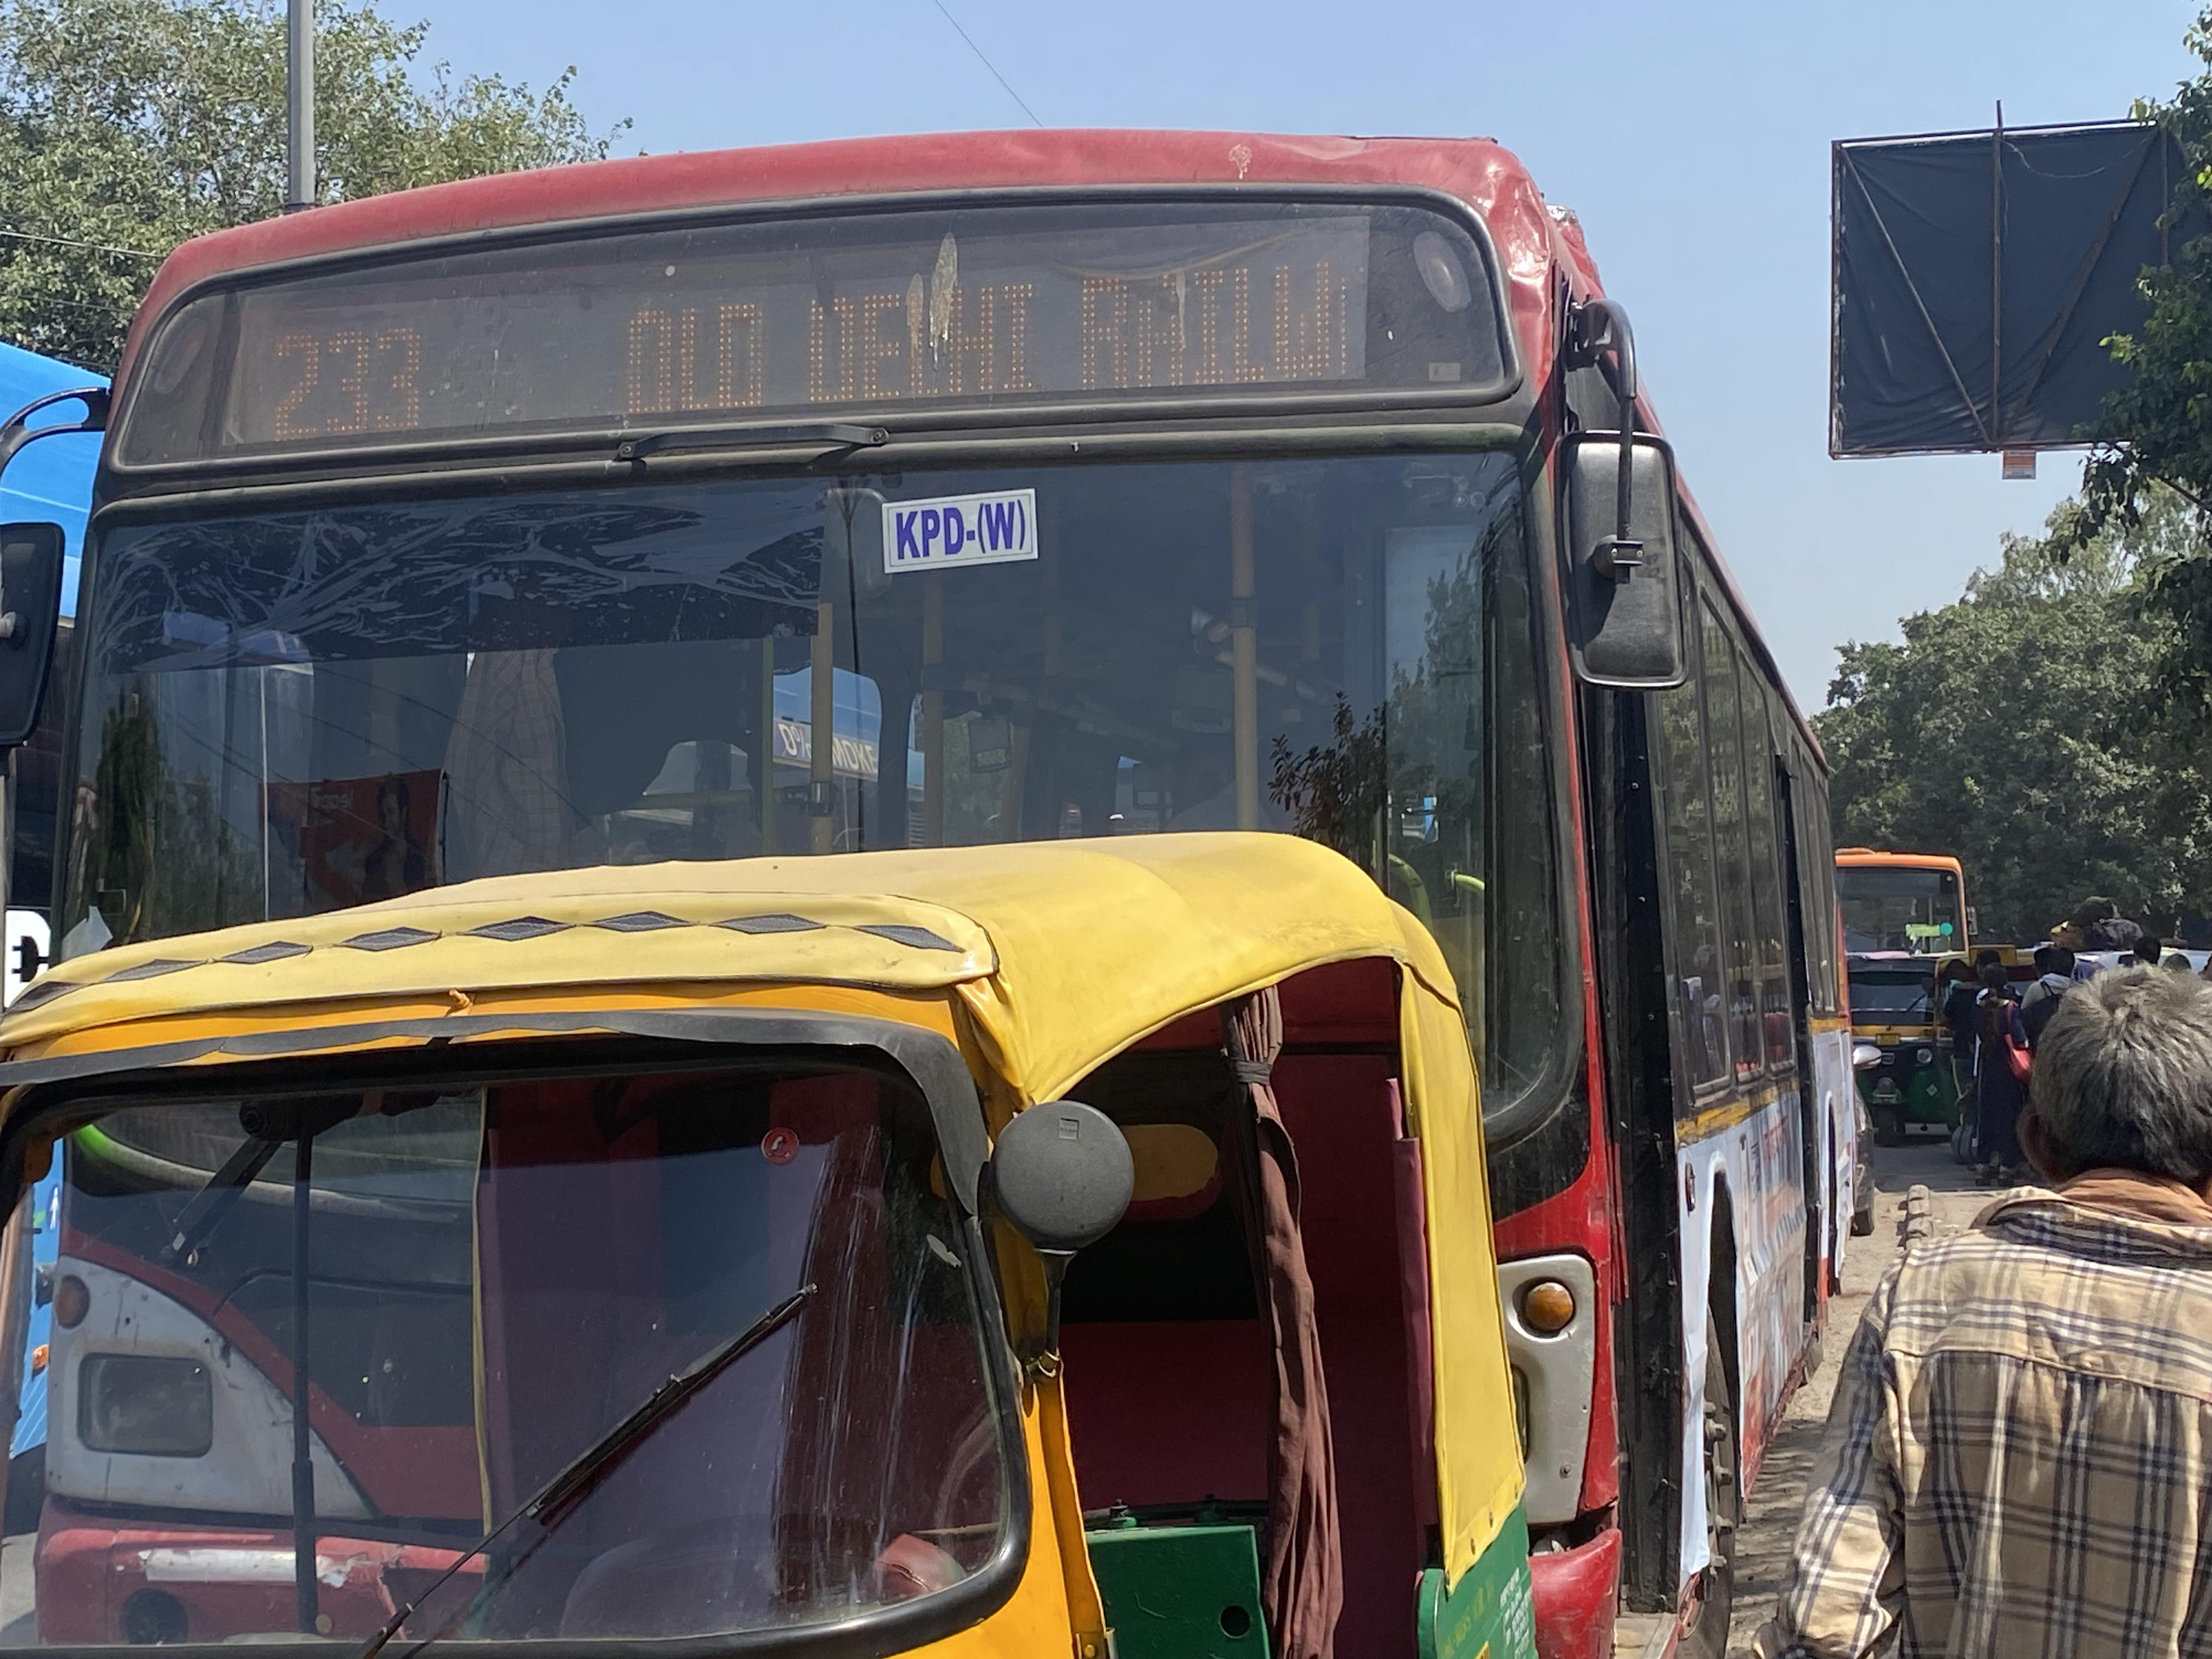Bus: (77, 66, 1723, 1659)
Display Board: (143, 153, 1552, 488)
